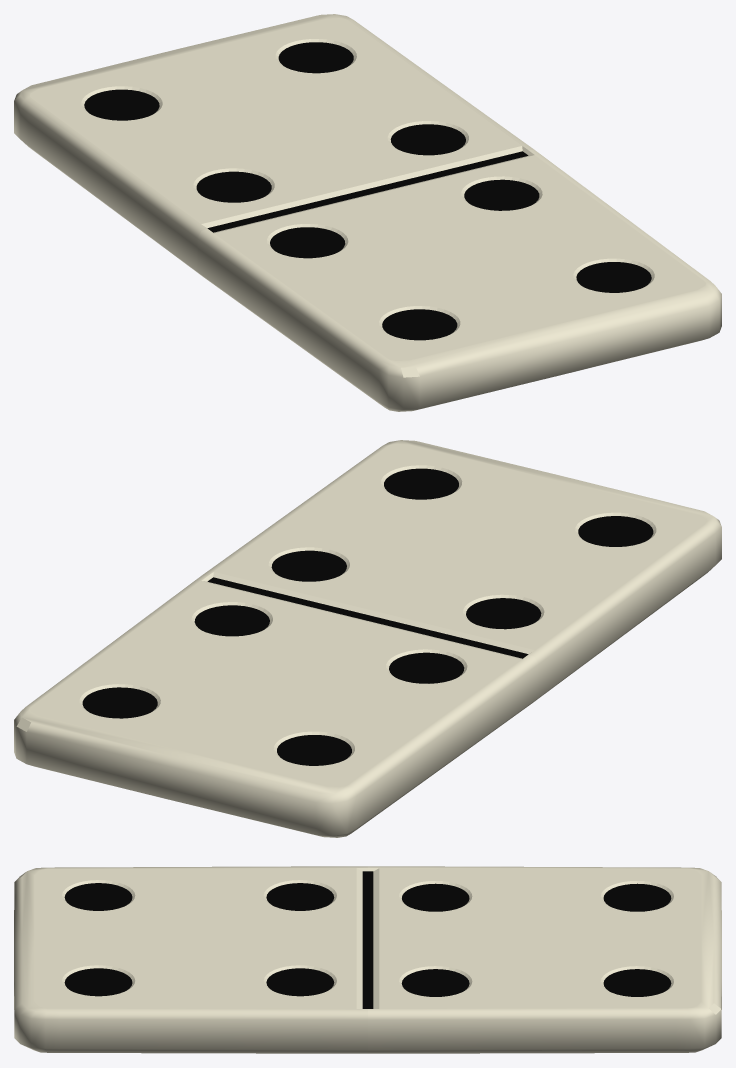
Rendered from Domino_4_4.glb.
The picture shows the model from 3 angles, top to bottom: view 1: azimuth 30°, elevation 25°; view 2: azimuth 150°, elevation 25°; view 3: azimuth 270°, elevation 25°; orthographic projection. The views are drawn at different scales.
Visible parts, largest first — view 1: Domino_4_4_A.001, Domino_4_4_B.001; view 2: Domino_4_4_B.001, Domino_4_4_A.001; view 3: Domino_4_4_A.001, Domino_4_4_B.001.
Boxes of the visible parts, x1,y1,x2,y2 form: Domino_4_4_A.001: (197,149,721,411); Domino_4_4_B.001: (14,14,533,276); Domino_4_4_B.001: (14,575,538,837); Domino_4_4_A.001: (202,440,721,702); Domino_4_4_A.001: (14,866,367,1053); Domino_4_4_B.001: (368,866,721,1053).
Size of the model in its own units: 0.7725 by 0.105 by 1.54.
